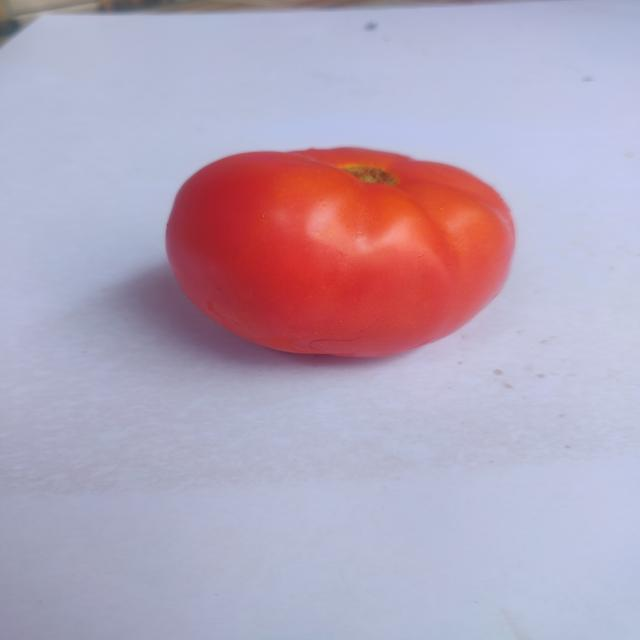Tomato: (162, 138, 526, 375)
